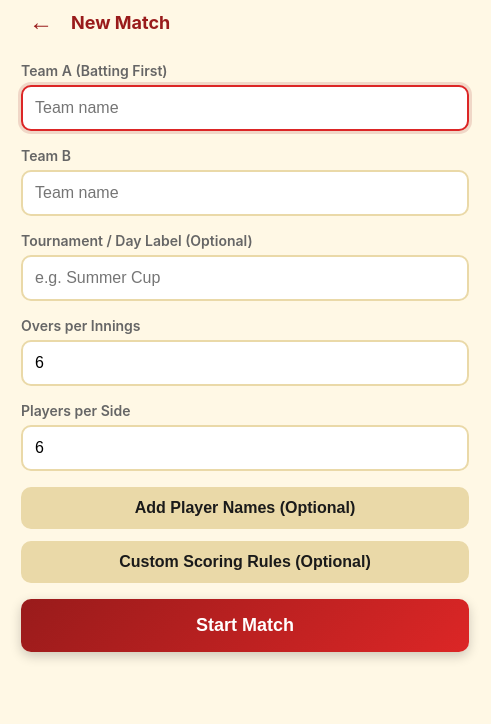
NewMatch - form basics › toggle custom rules shows rules table
This screenshot has width=491, height=724.
Step 1. Click the button "Custom Scoring Rules (Optional)" → (245, 562), box [21, 541, 469, 583]
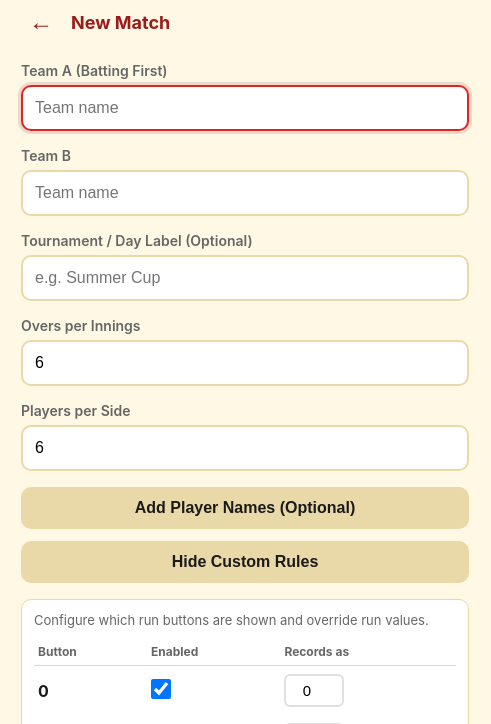
Expected: the button "Hide Custom Rules" is shown, [21, 541, 469, 583]
Expected: the column heading "Button" is shown, [34, 638, 147, 666]
Expected: the column heading "Enabled" is shown, [147, 638, 280, 666]
